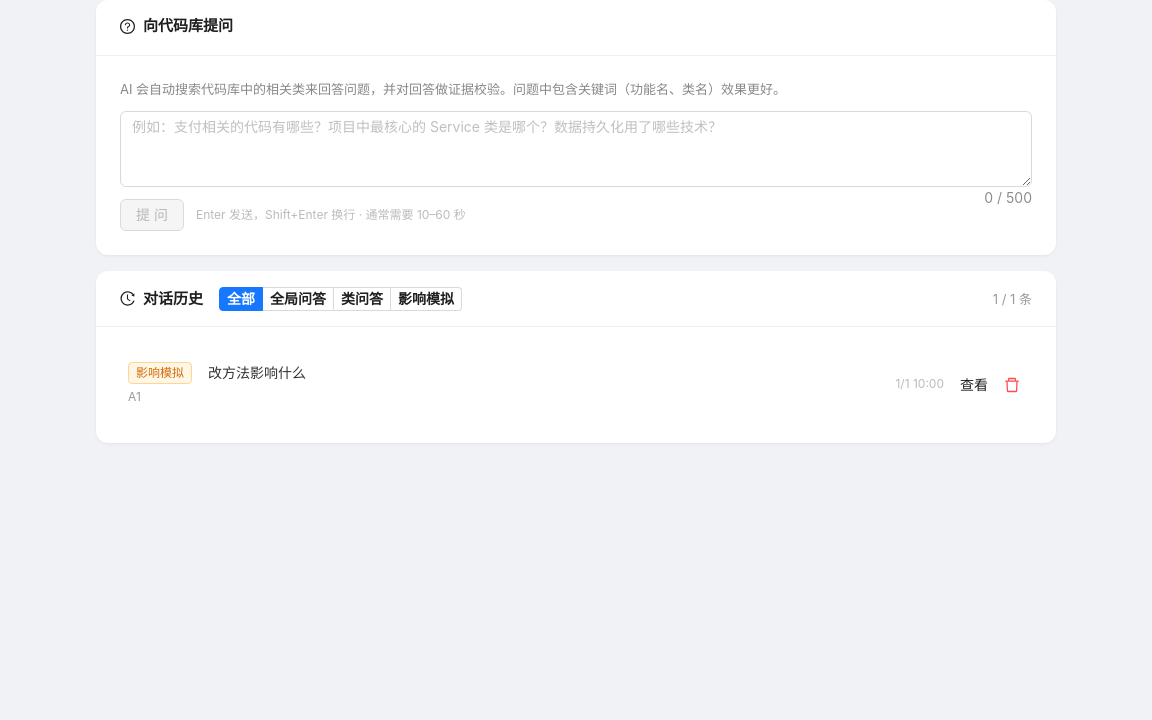
Test: ProjectInsights › detailModal_whenImpactItem_shouldRenderSnapshotFields
The width and height of the screenshot is (1152, 720).
Click the element with class "history-item-main". click: {"x": 217, "y": 383}
box: [128,362,306,404]
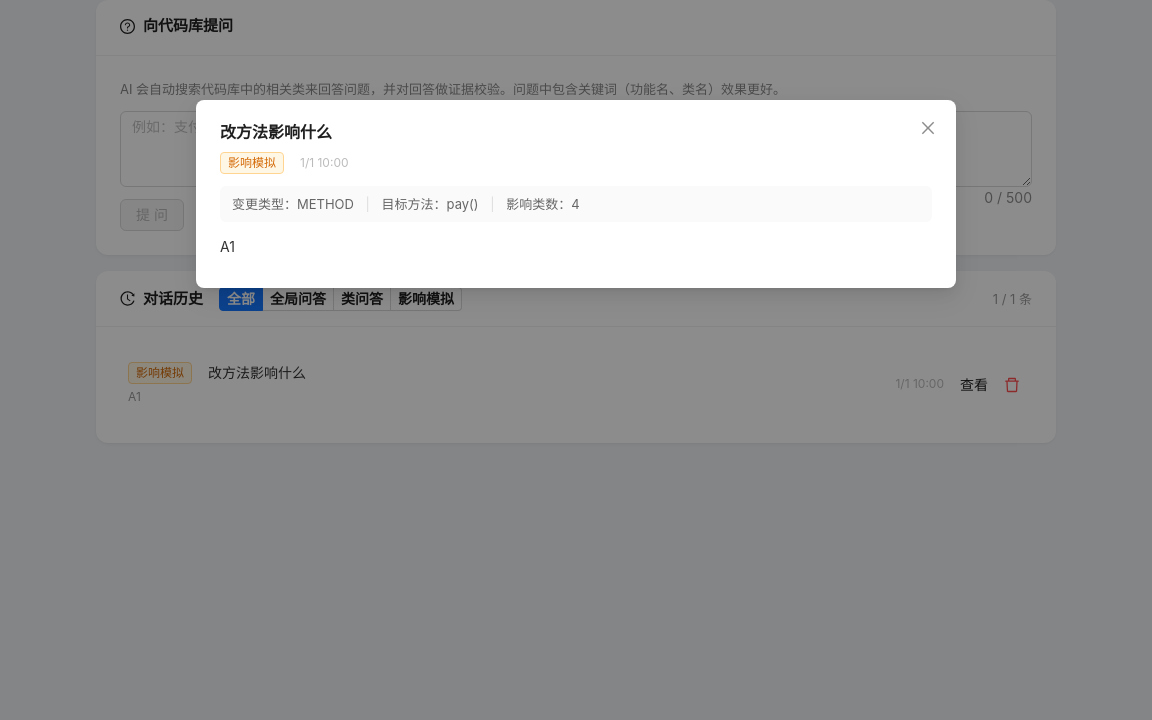
Expected: the element with class "impact-snapshot" is shown, [220,186,932,222]
Expected: the element with class "impact-snapshot" shows "METHOD", [232,196,358,212]
Expected: the element with class "impact-snapshot" shows "pay()", [378,196,482,212]
